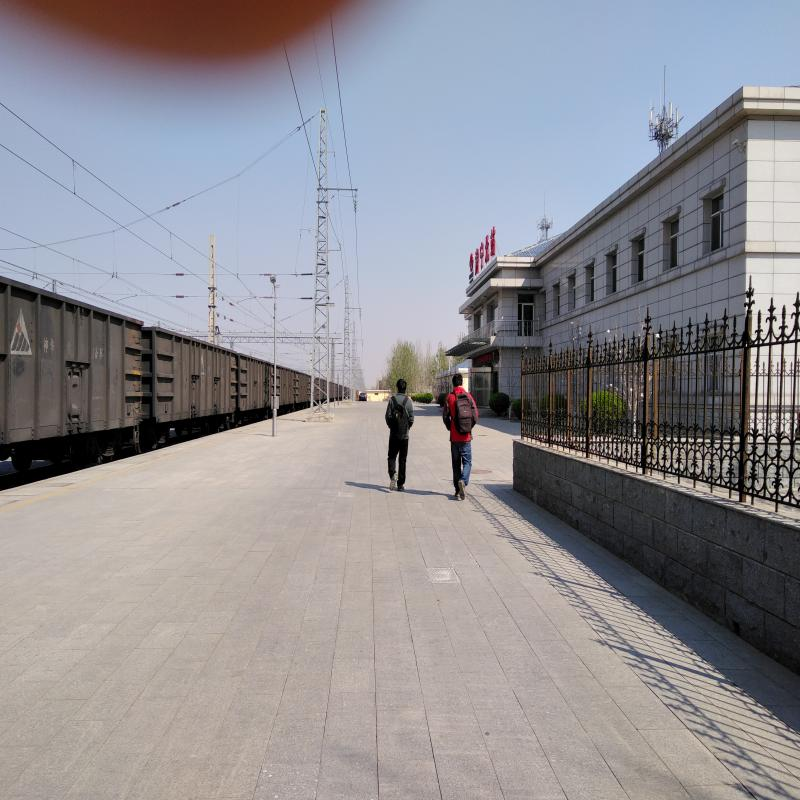train: (7, 278, 155, 448)
